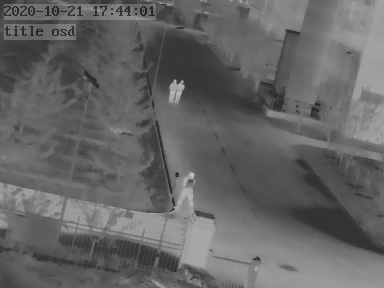person: (177, 172, 198, 214), (168, 79, 177, 102), (176, 80, 185, 102)
